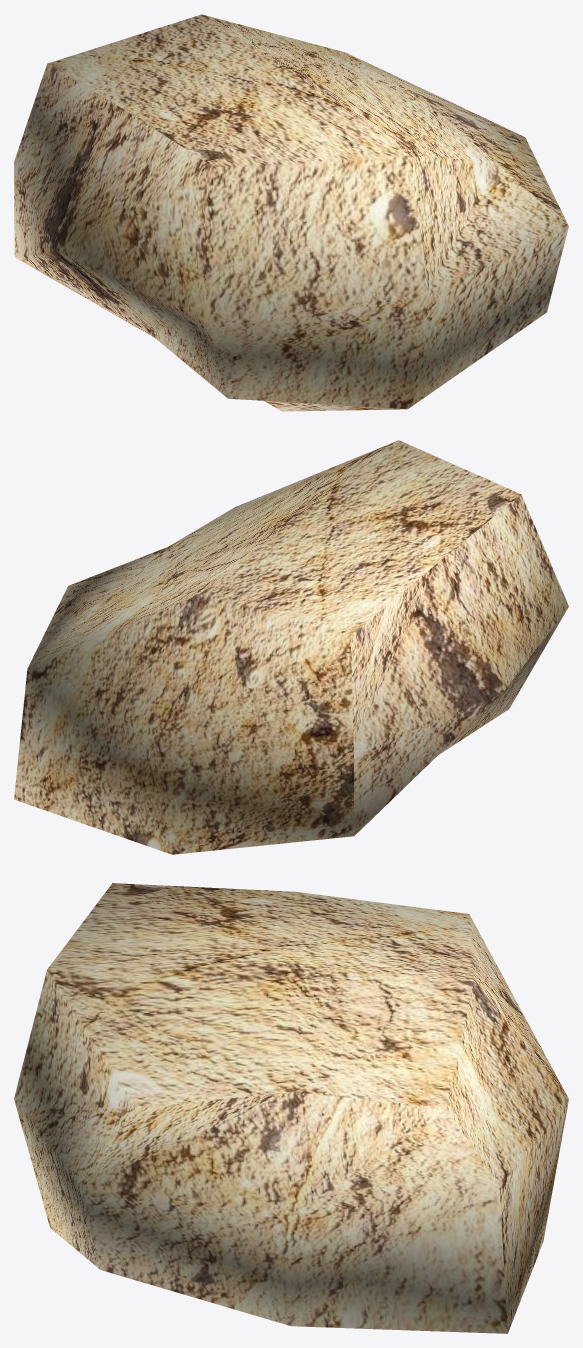
File: Rock.fbx
3 views of the same model, one above another, from view 1: azimuth 30°, elevation 25°; view 2: azimuth 150°, elevation 25°; view 3: azimuth 270°, elevation 25° (orthographic). The views are drawn at different scales.
Parts seen in each view (by area): view 1: pCube1; view 2: pCube1; view 3: pCube1.
Part boxes in pixels (x1,y1,x2,y2): pCube1: (14, 14, 568, 411); pCube1: (14, 440, 568, 854); pCube1: (14, 883, 568, 1333).
Bounding box in the file's own units: 7.96 × 5.62 × 8.03.
Materials: 1 (1 with a texture image).
